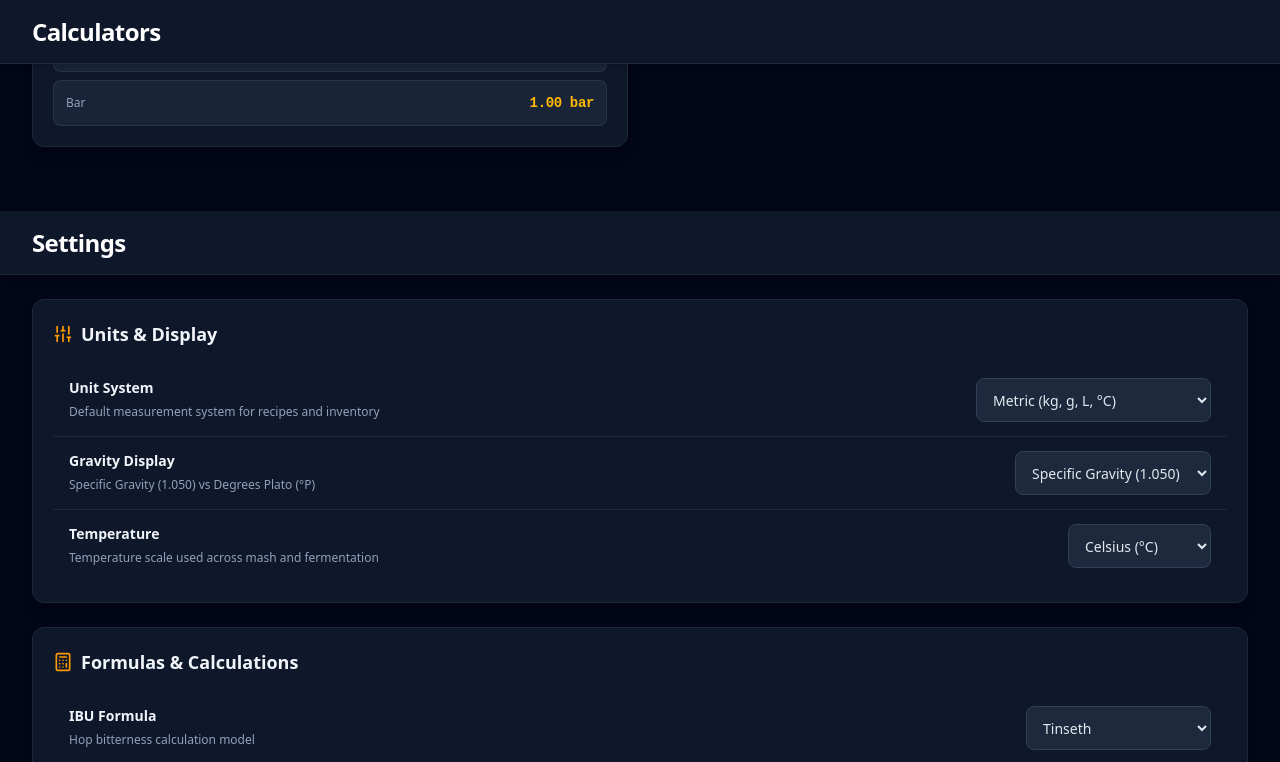
AC-22: lockstep — one config change updates every card in the same pass › a real Settings PUT (no remount, no reload) updates the strike card and the volume converter row together, in the same commit
(page scrolled)
Select "US Customary (lb, oz, gal, °F)" in the dropdown with test id "settings-select-unitSystem" at (1094, 400), box [976,378,1211,422]
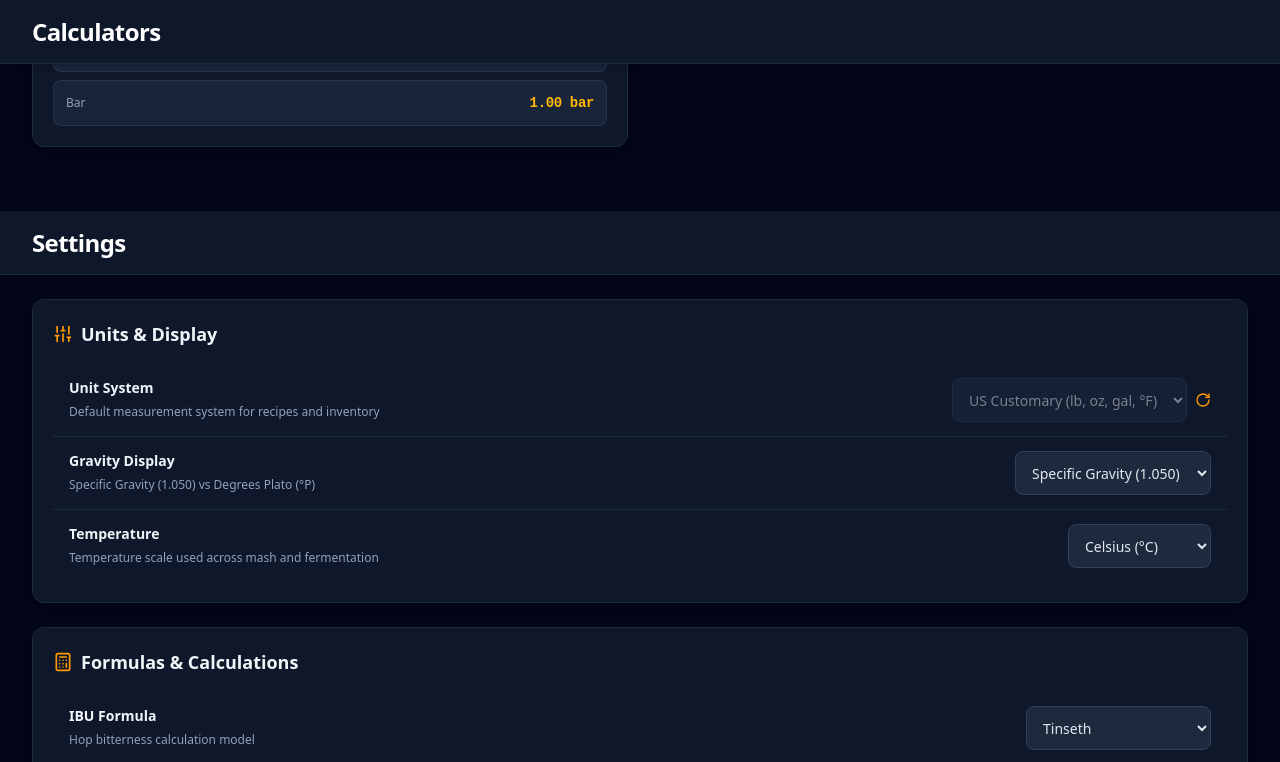
Select "Fahrenheit (°F)" in the dropdown with test id "settings-select-temperatureUnit" at (1140, 546), box [1068,524,1211,568]
(page scrolled)
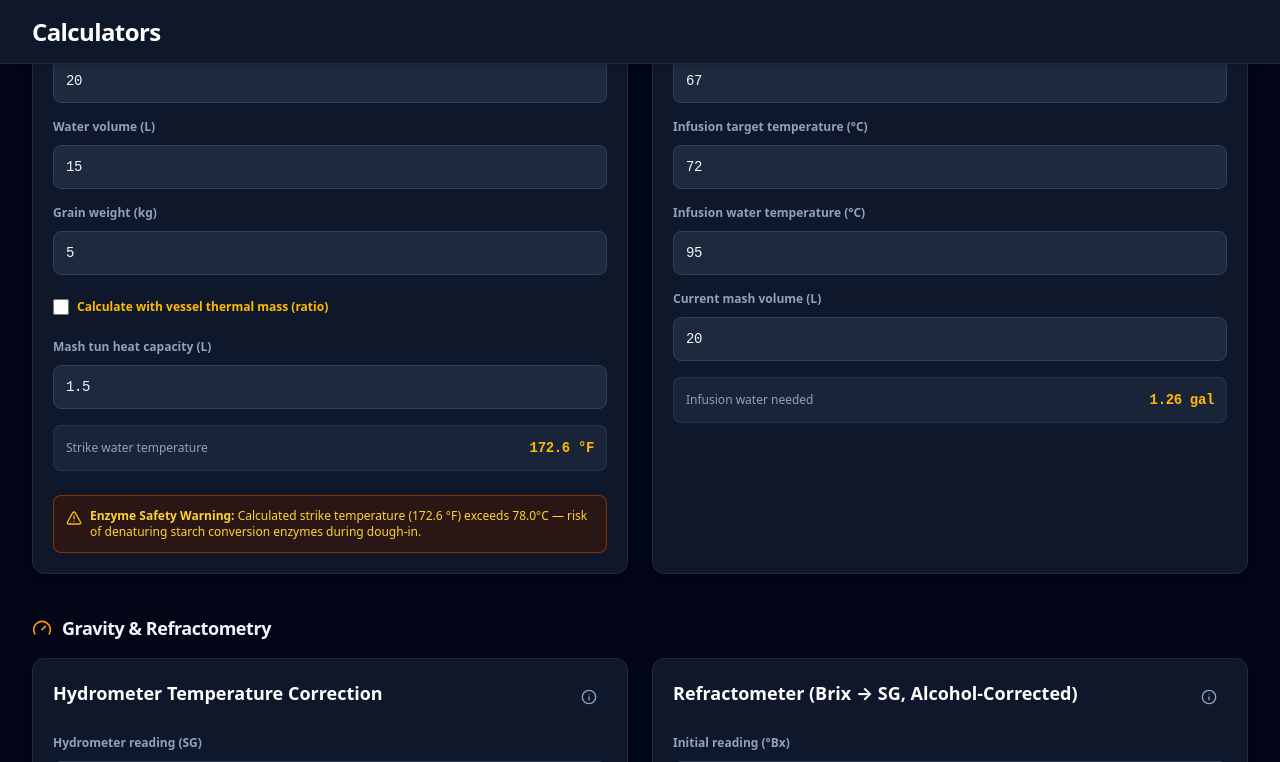
Now the text "1.26 gal" is shown, box [1150,390,1214,410]
Now the text "172.6 °F" is shown, box [530,438,594,458]
